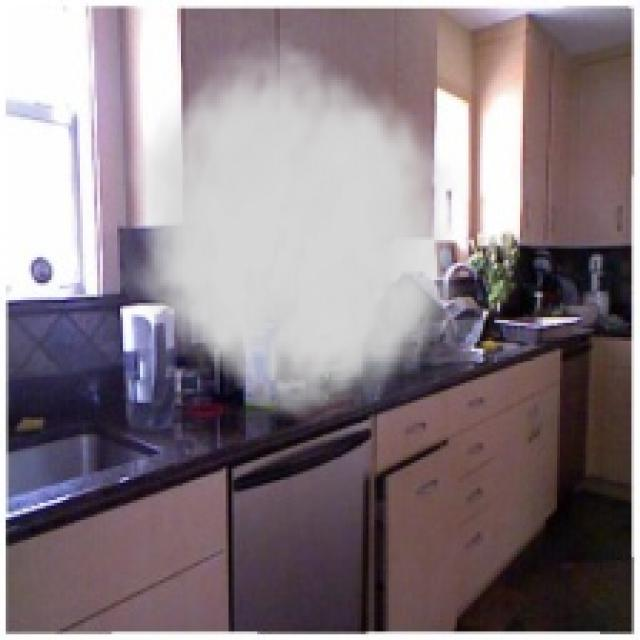smoke: (126, 29, 471, 437)
